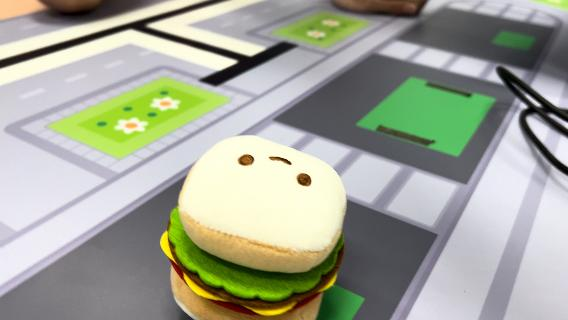sandwich: (160, 133, 350, 317)
